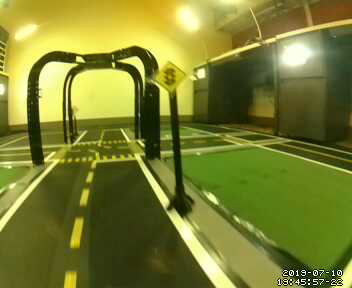Traffic light sign: (154, 59, 186, 88)
